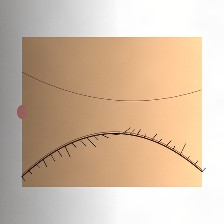corneal_ulcer: (85, 92, 129, 128)
